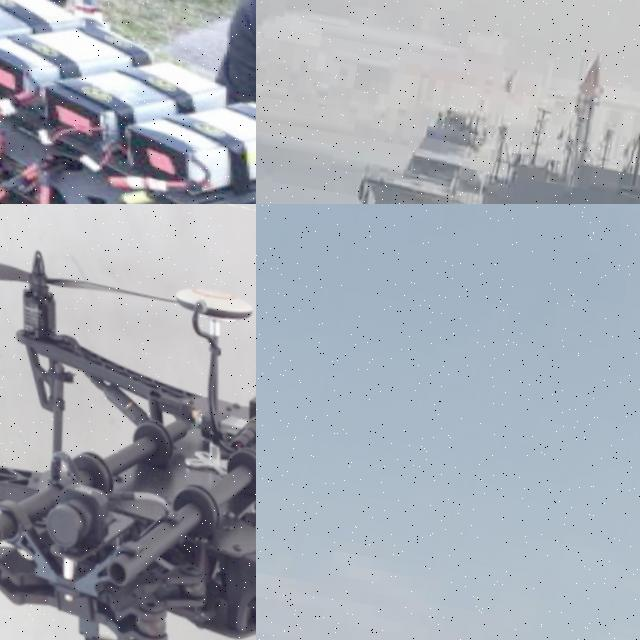drone: (0, 204, 256, 640), (0, 0, 256, 204)
